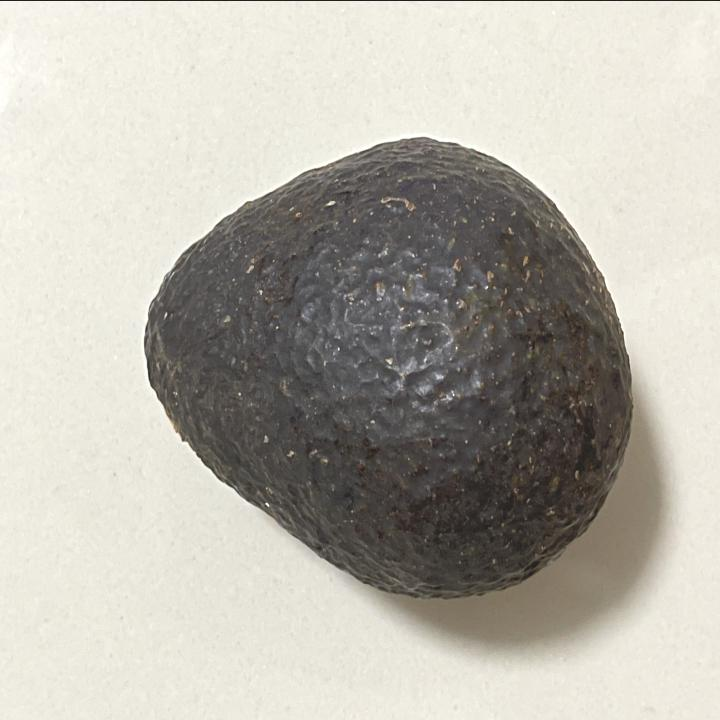Level1: (127, 118, 649, 618)
